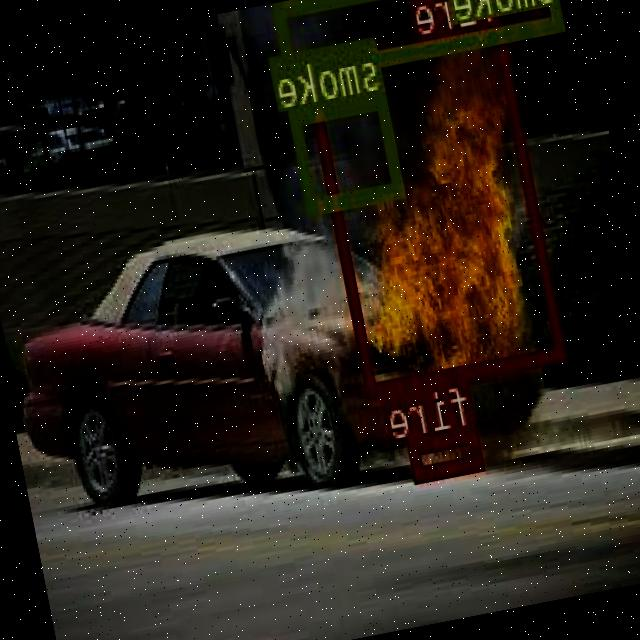fire: (305, 19, 568, 394), (408, 423, 486, 479)
smoke: (275, 0, 566, 81), (292, 91, 406, 210)
